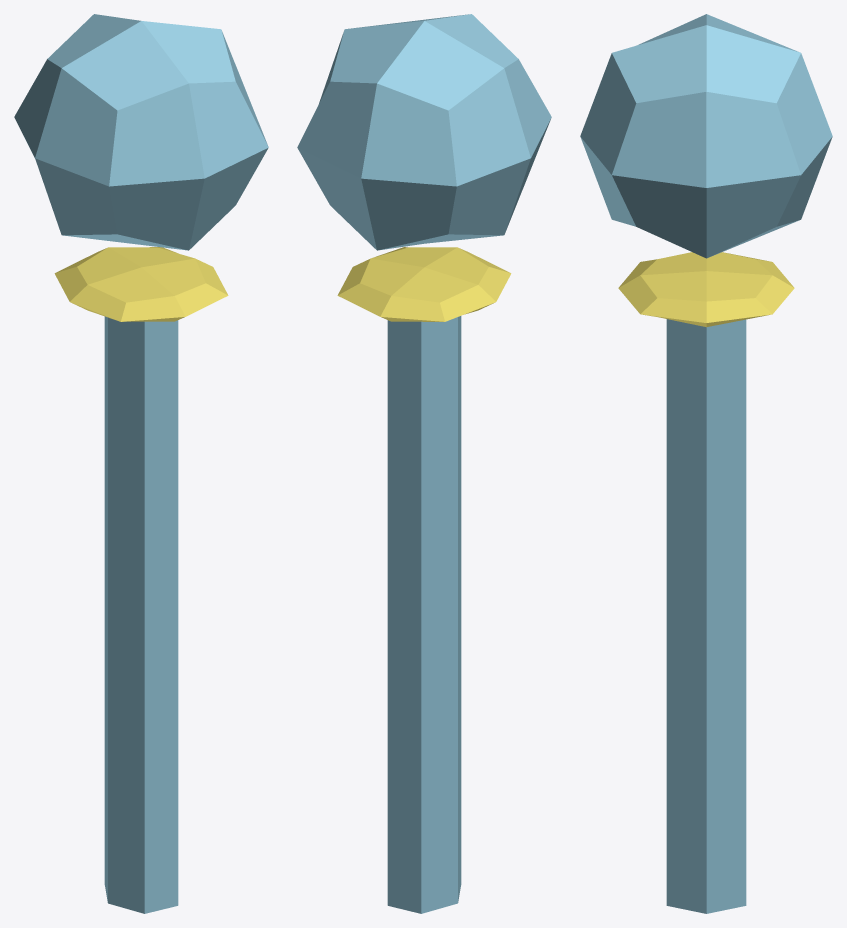
File: Staff_blue.fbx
3 views of the same model, side by side, from view 1: azimuth 30°, elevation 25°; view 2: azimuth 150°, elevation 25°; view 3: azimuth 270°, elevation 25° (orthographic).
Visible parts, largest first — view 1: pCube7, pCube5; view 2: pCube7, pCube5; view 3: pCube7, pCube5.
Boxes of the visible parts, x1,y1,x2,y2 form: pCube7: (14, 14, 268, 913); pCube5: (54, 247, 228, 321); pCube7: (297, 14, 551, 913); pCube5: (337, 247, 511, 321); pCube7: (580, 14, 832, 913); pCube5: (618, 252, 794, 327).
Size of the model in its own units: 2.26 by 8.85 by 2.32.
